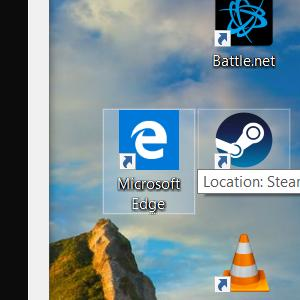edge: (119, 110, 179, 170)
